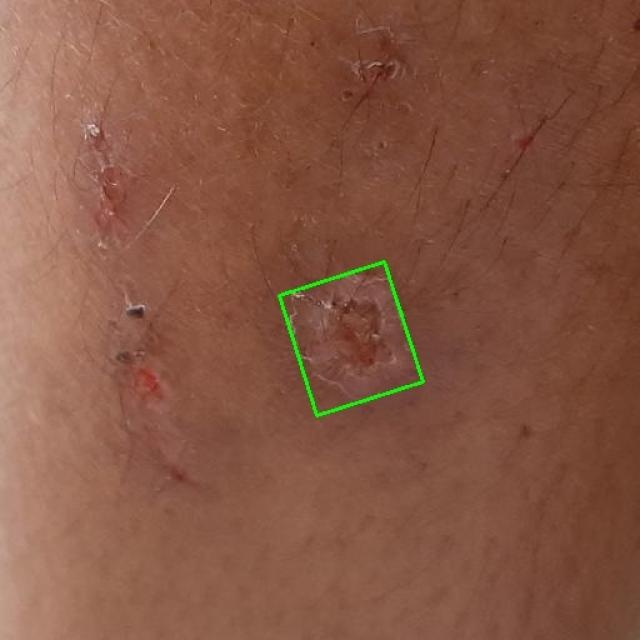Eczema: (279, 262, 423, 416)
